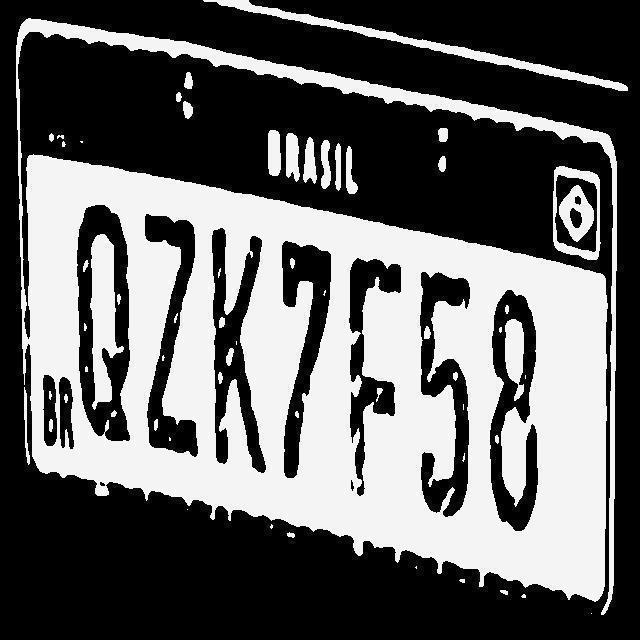5: (418, 269, 472, 518)
7: (278, 240, 334, 478)
8: (490, 288, 540, 534)
f: (347, 256, 405, 496)
k: (210, 228, 268, 474)
q: (75, 203, 133, 442)
z: (142, 212, 198, 458)
